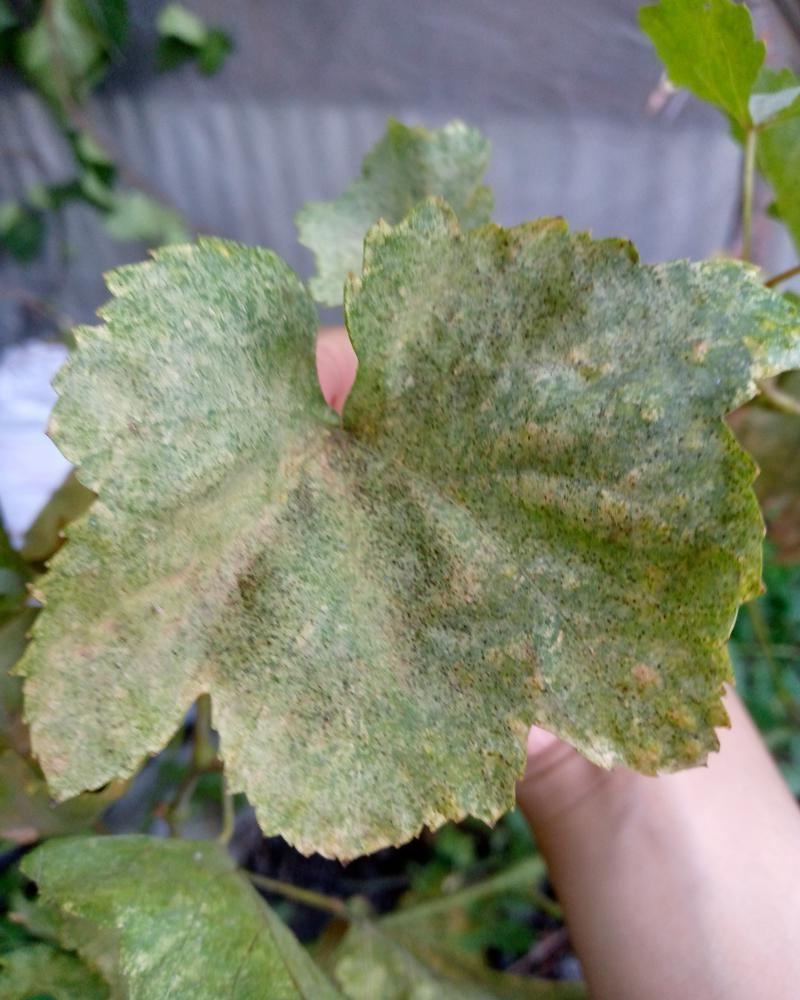Powdery-Mildew: (383, 231, 483, 399), (31, 627, 143, 769), (139, 498, 241, 625), (516, 314, 637, 412), (666, 322, 729, 385), (623, 655, 686, 718)
